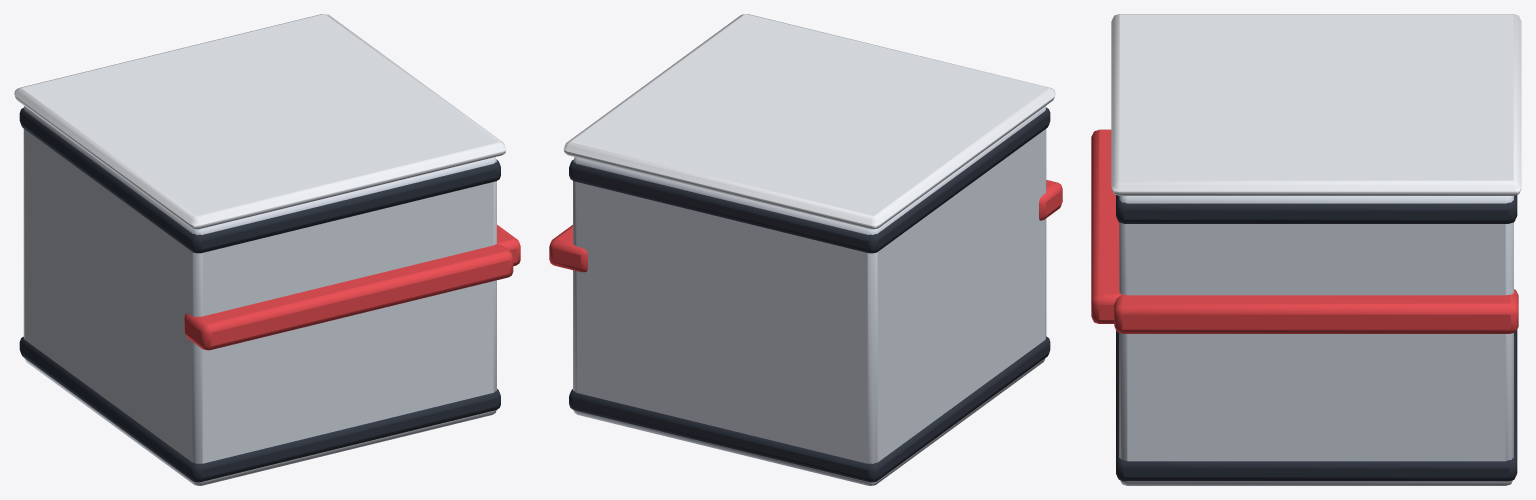
The model's file is crate_snow.glb.
3 renders of one model, left to right at view 1: azimuth 30°, elevation 25°; view 2: azimuth 150°, elevation 25°; view 3: azimuth 270°, elevation 25°, orthographic. The views are drawn at different scales.
Visible parts, largest first — view 1: crate_snow; view 2: crate_snow; view 3: crate_snow.
Boxes of the visible parts, x1,y1,x2,y2 form: crate_snow: [14, 14, 520, 485]; crate_snow: [549, 14, 1062, 485]; crate_snow: [1091, 14, 1521, 485].
Bounding box in the file's own units: 1.31 × 1.03 × 1.31.
